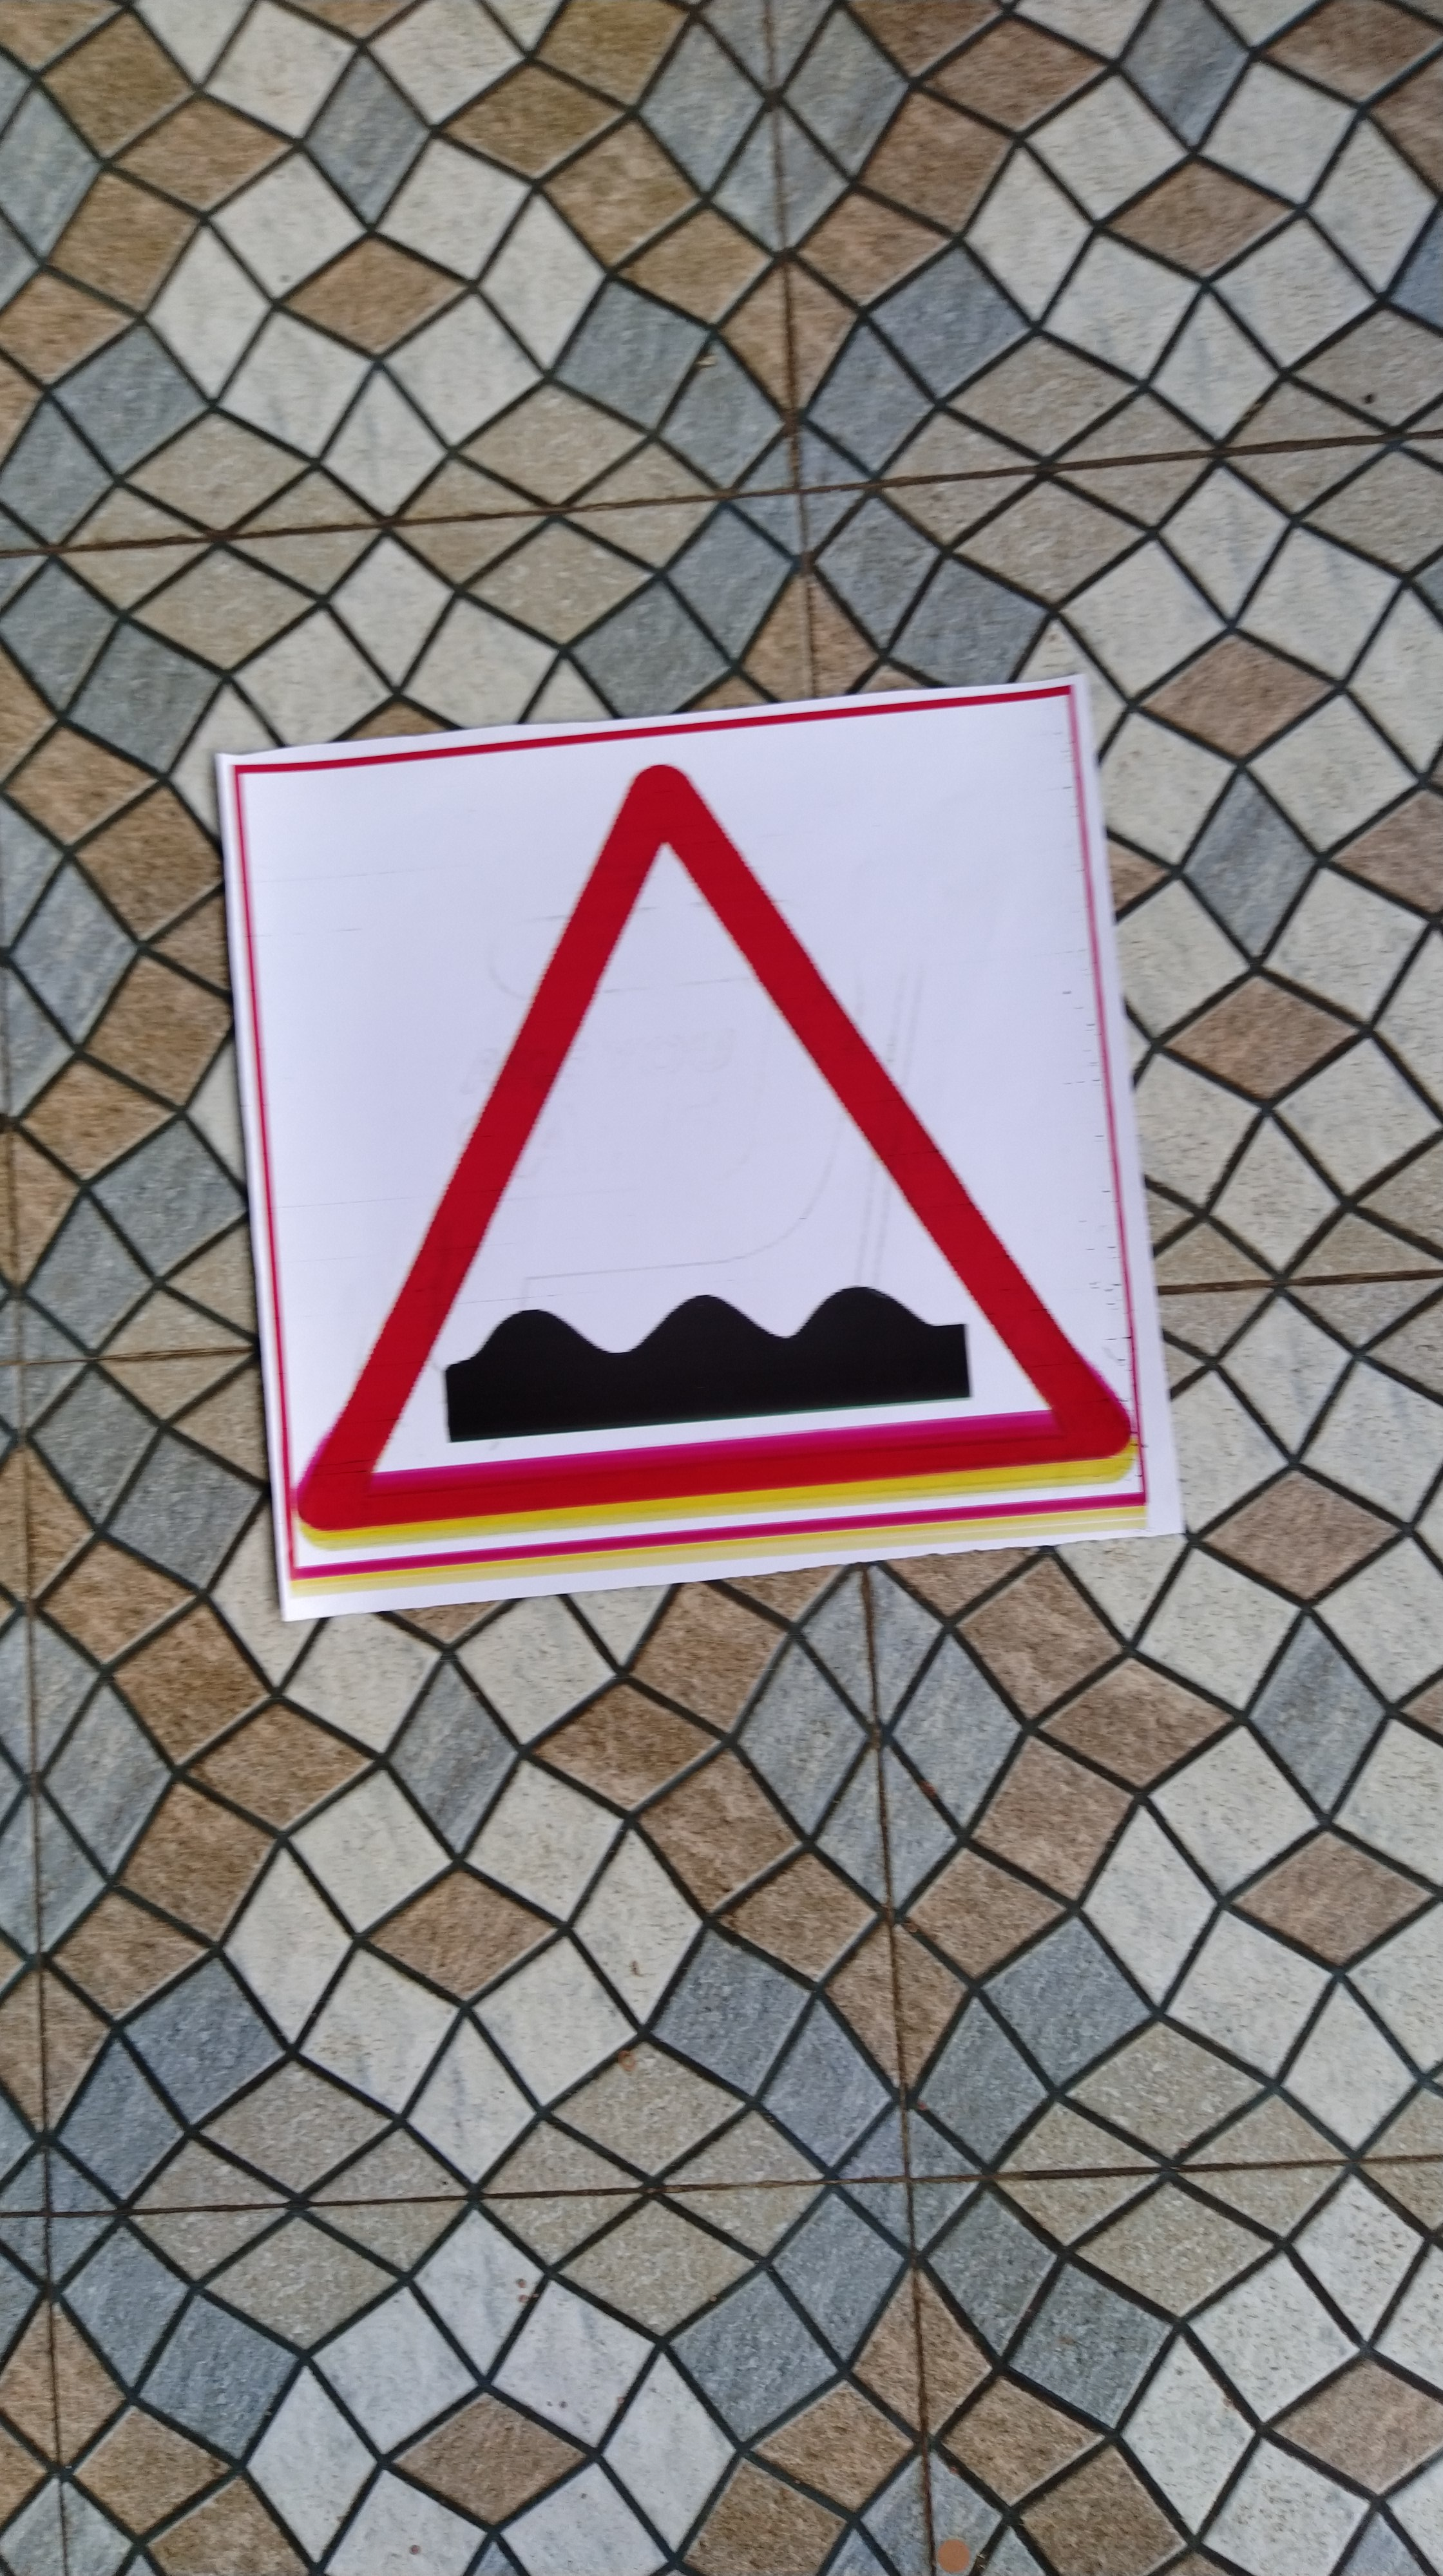speed breaker: (228, 771, 1149, 1545)
